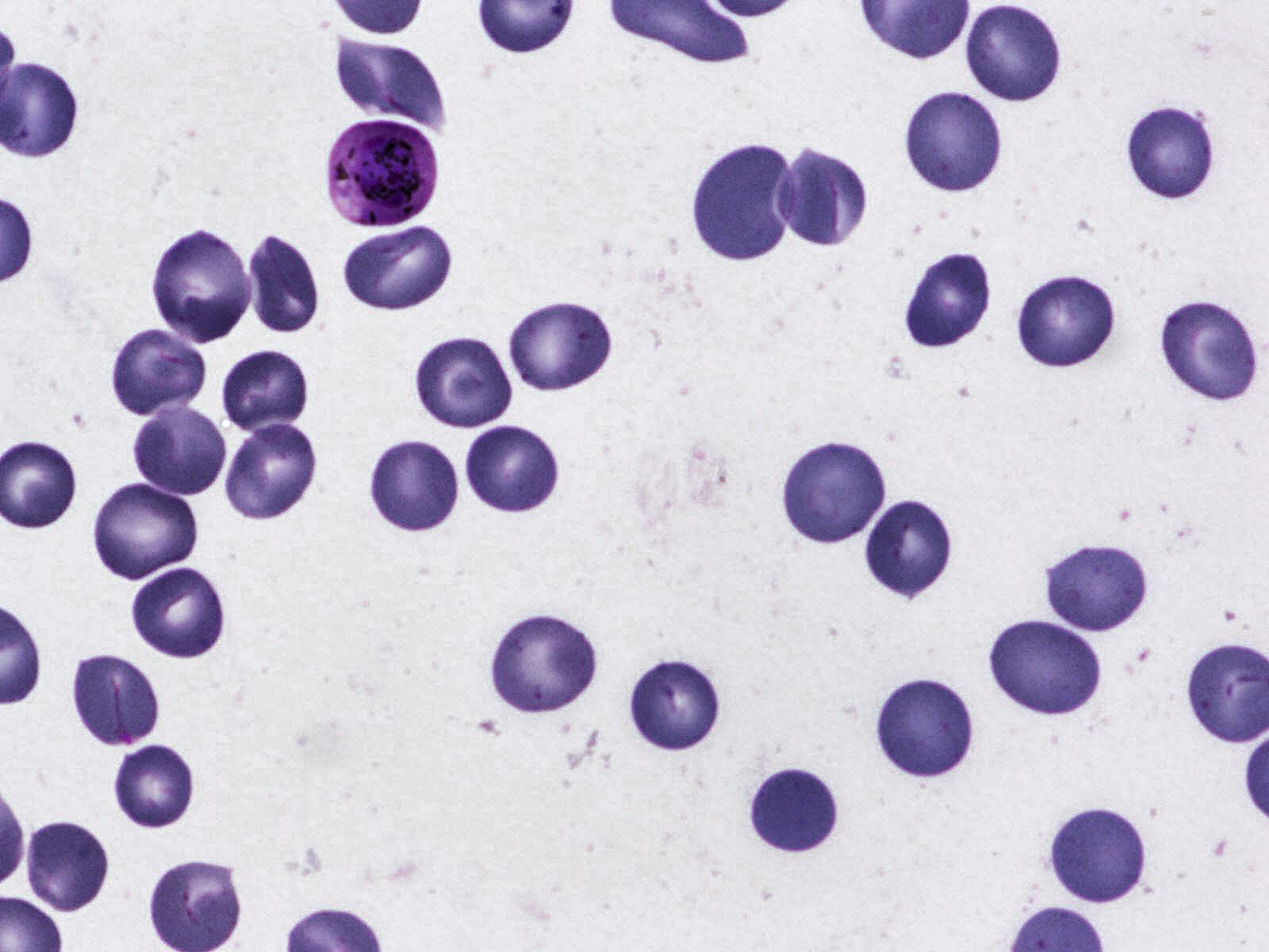Infected: (326, 122, 442, 228)
Uninfected: (692, 140, 798, 263), (487, 612, 604, 716), (87, 480, 205, 579), (150, 233, 253, 344), (780, 438, 888, 542), (1156, 298, 1258, 405), (504, 298, 615, 396), (963, 3, 1064, 108), (903, 90, 1003, 196), (872, 677, 974, 780), (992, 620, 1100, 717), (1047, 807, 1149, 906), (1014, 271, 1118, 368), (1041, 542, 1148, 635), (130, 401, 231, 499), (414, 334, 517, 430), (222, 420, 318, 520), (131, 565, 228, 663), (461, 422, 558, 519), (343, 228, 452, 313), (903, 252, 995, 351), (21, 817, 112, 917), (148, 859, 245, 952), (862, 500, 953, 599), (336, 45, 448, 125), (780, 148, 870, 247), (630, 656, 721, 753), (112, 327, 212, 415), (367, 440, 460, 534), (1126, 105, 1215, 201), (73, 654, 162, 750), (221, 349, 312, 440), (750, 767, 840, 855), (248, 233, 320, 341), (116, 739, 195, 831)
